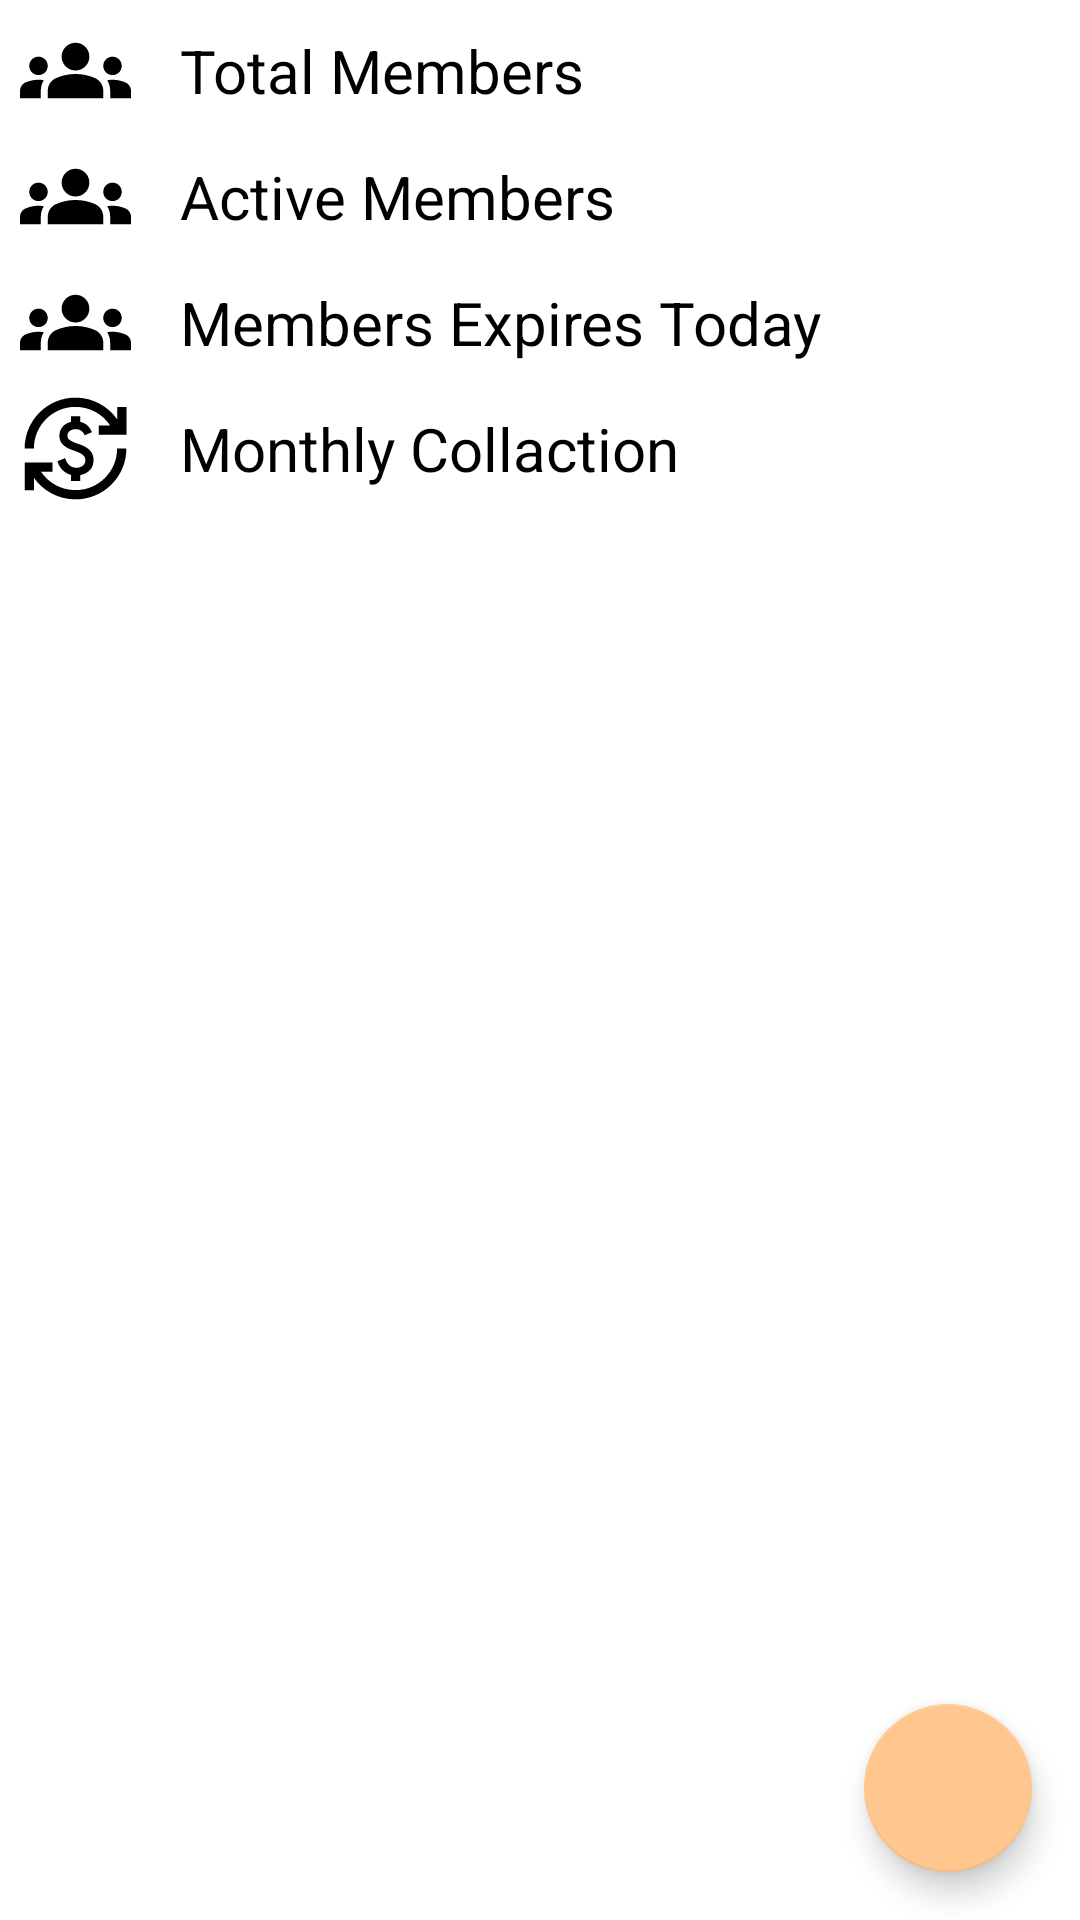

Screen size 1080px x 1920px. Icon name, then its box in pixels as [x1=x1, y1=y1, x2=x2, y2=y2]:
currency exchange: [x1=24, y1=397, x2=127, y2=500]
groups: [x1=20, y1=42, x2=131, y2=99], [x1=20, y1=168, x2=131, y2=225], [x1=20, y1=294, x2=131, y2=351]
